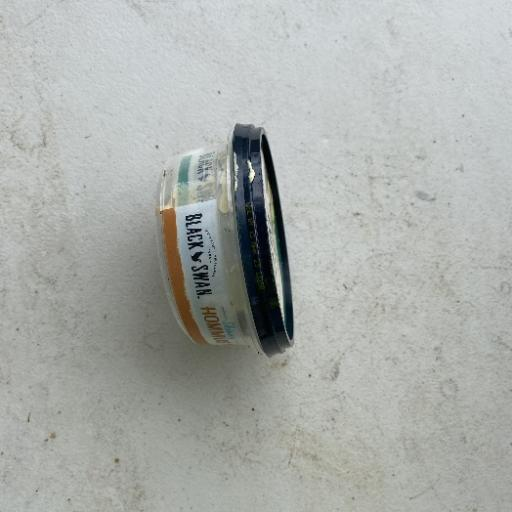Plastic: (152, 121, 296, 359)
